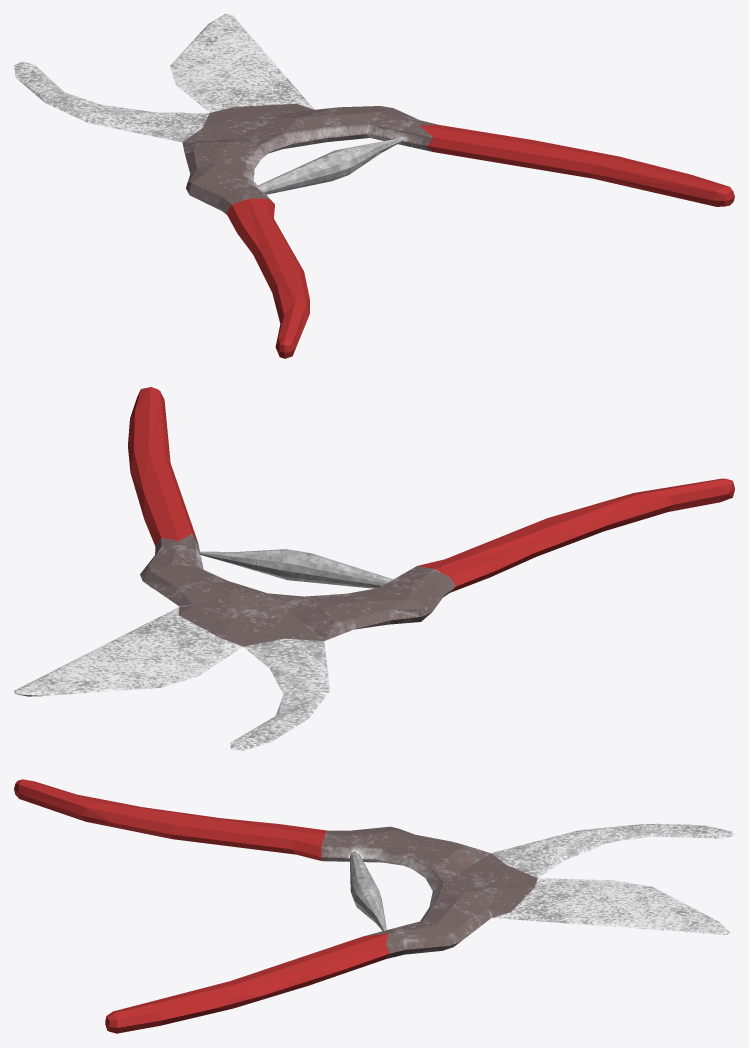
The model's file is shears.obj.
The picture shows the model from 3 angles, top to bottom: view 1: azimuth 30°, elevation 25°; view 2: azimuth 150°, elevation 25°; view 3: azimuth 270°, elevation 25°; orthographic projection. The views are drawn at different scales.
Parts seen in each view (by area): view 1: Plane; view 2: Plane; view 3: Plane.
Part boxes in pixels (x1,y1,x2,y2): Plane: [14, 14, 734, 358]; Plane: [14, 387, 734, 750]; Plane: [14, 779, 734, 1033].
Size of the model in its own units: 0.8023 by 0.0393 by 1.01.
3 materials, 3 textured.
